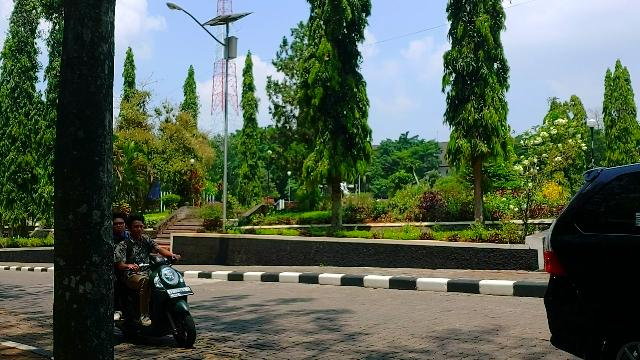motor: (114, 253, 199, 352)
non-helm: (129, 215, 147, 240), (113, 213, 129, 238)
